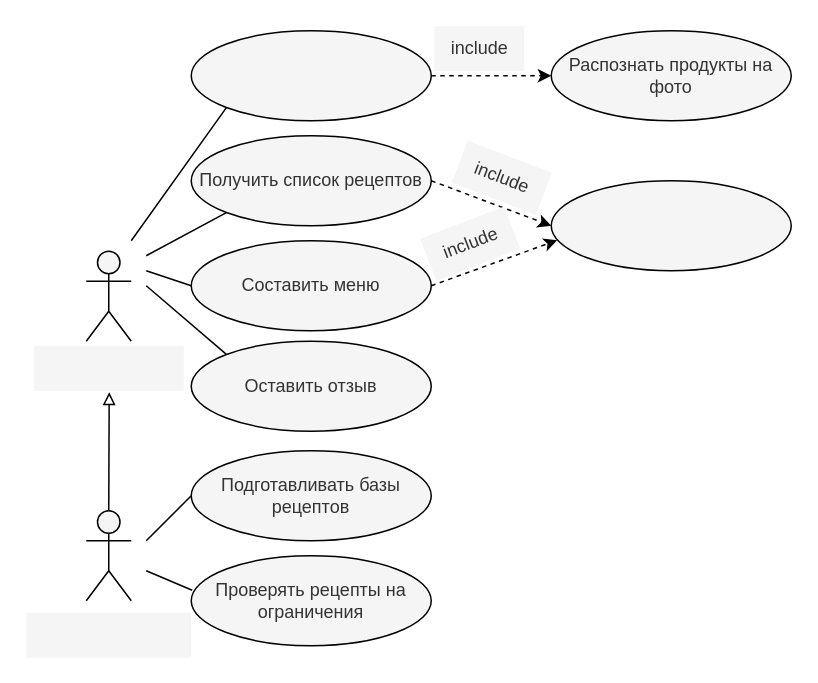
This 818x683 diagram has some shape labels left out. Here are the shapes that lost their labels. From the top down, the centre of each, then its label:
At (310,75): "Загрузить фото продуктов".
At (670,225): "Сохранить историю".
At (108,367): "Пользователь".
At (108,634): "Администратор".
